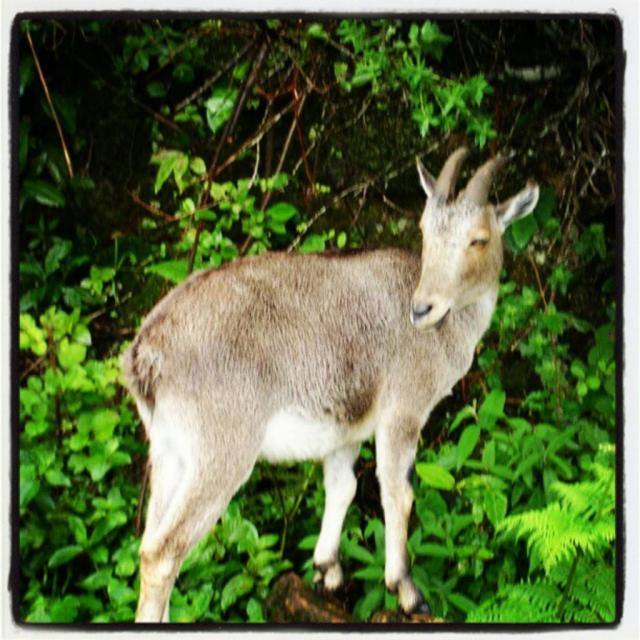Goat: (118, 146, 541, 624)
